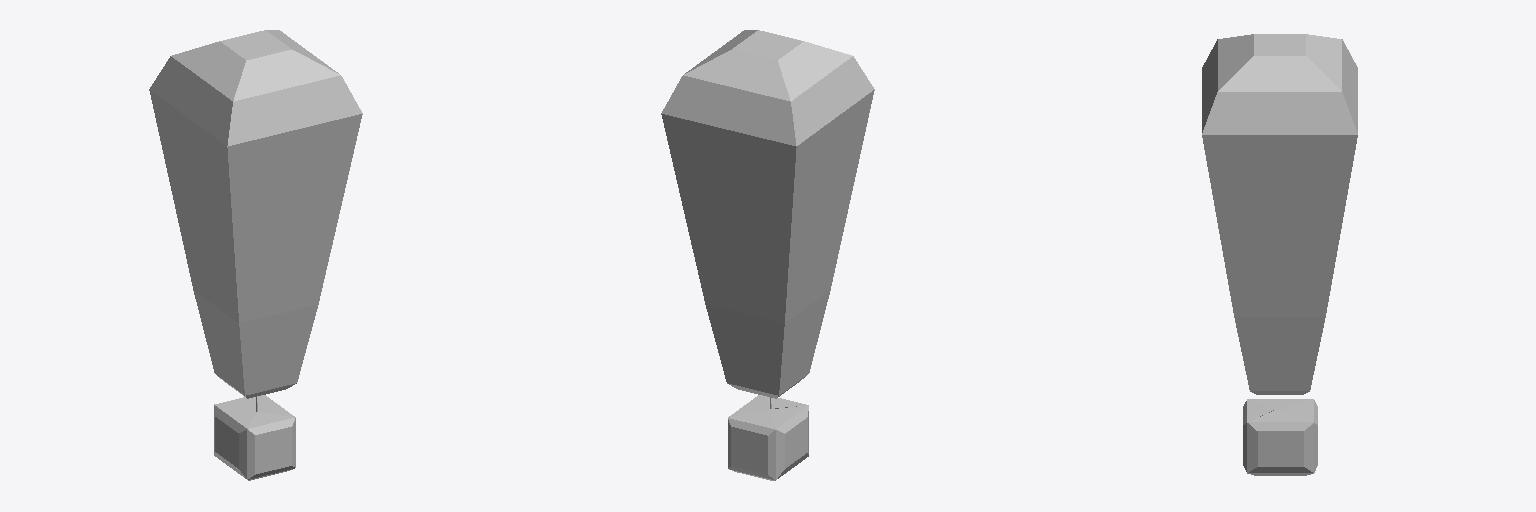
The model's file is quest4rtcg_1.obj.
The picture shows the model from 3 angles: view 1: azimuth 30°, elevation 25°; view 2: azimuth 150°, elevation 25°; view 3: azimuth 270°, elevation 25°; orthographic projection.
Visible parts, largest first — view 1: Cube; view 2: Cube; view 3: Cube.
Boxes of the visible parts, <box> form: Cube: <box>149,30,362,480</box>; Cube: <box>661,30,874,480</box>; Cube: <box>1202,34,1357,475</box>.
Bounding box in the file's own units: 0.4418 × 1.31 × 0.4418.